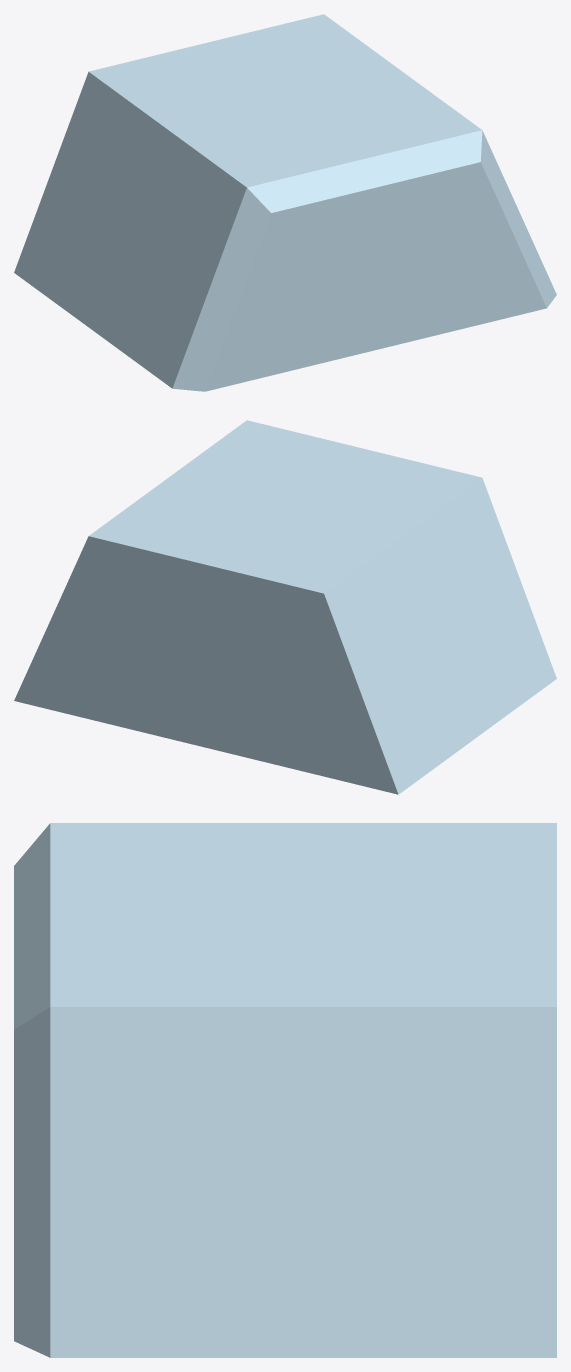
File: STAM - A7.gltf
3 renders of one model, top to bottom at view 1: azimuth 30°, elevation 25°; view 2: azimuth 150°, elevation 25°; view 3: azimuth 270°, elevation 25°, orthographic. The views are drawn at different scales.
Visible parts, largest first — view 1: A7; view 2: A7; view 3: A7.
Boxes of the visible parts, bbox=[...] form: A7: bbox=[14, 14, 556, 391]; A7: bbox=[14, 420, 556, 794]; A7: bbox=[14, 823, 556, 1357].
Size of the model in its own units: 0.0196 by 0.00892 by 0.015.
